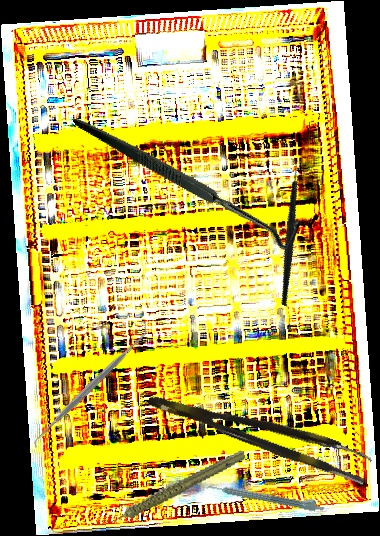Chopper: (230, 156, 345, 307)
Handpiece: (94, 449, 253, 526), (205, 477, 327, 514)
Hook Surgical: (72, 45, 309, 309)
Spatula Surgical: (25, 321, 157, 451)
Tissue Forceps: (146, 375, 374, 487)
